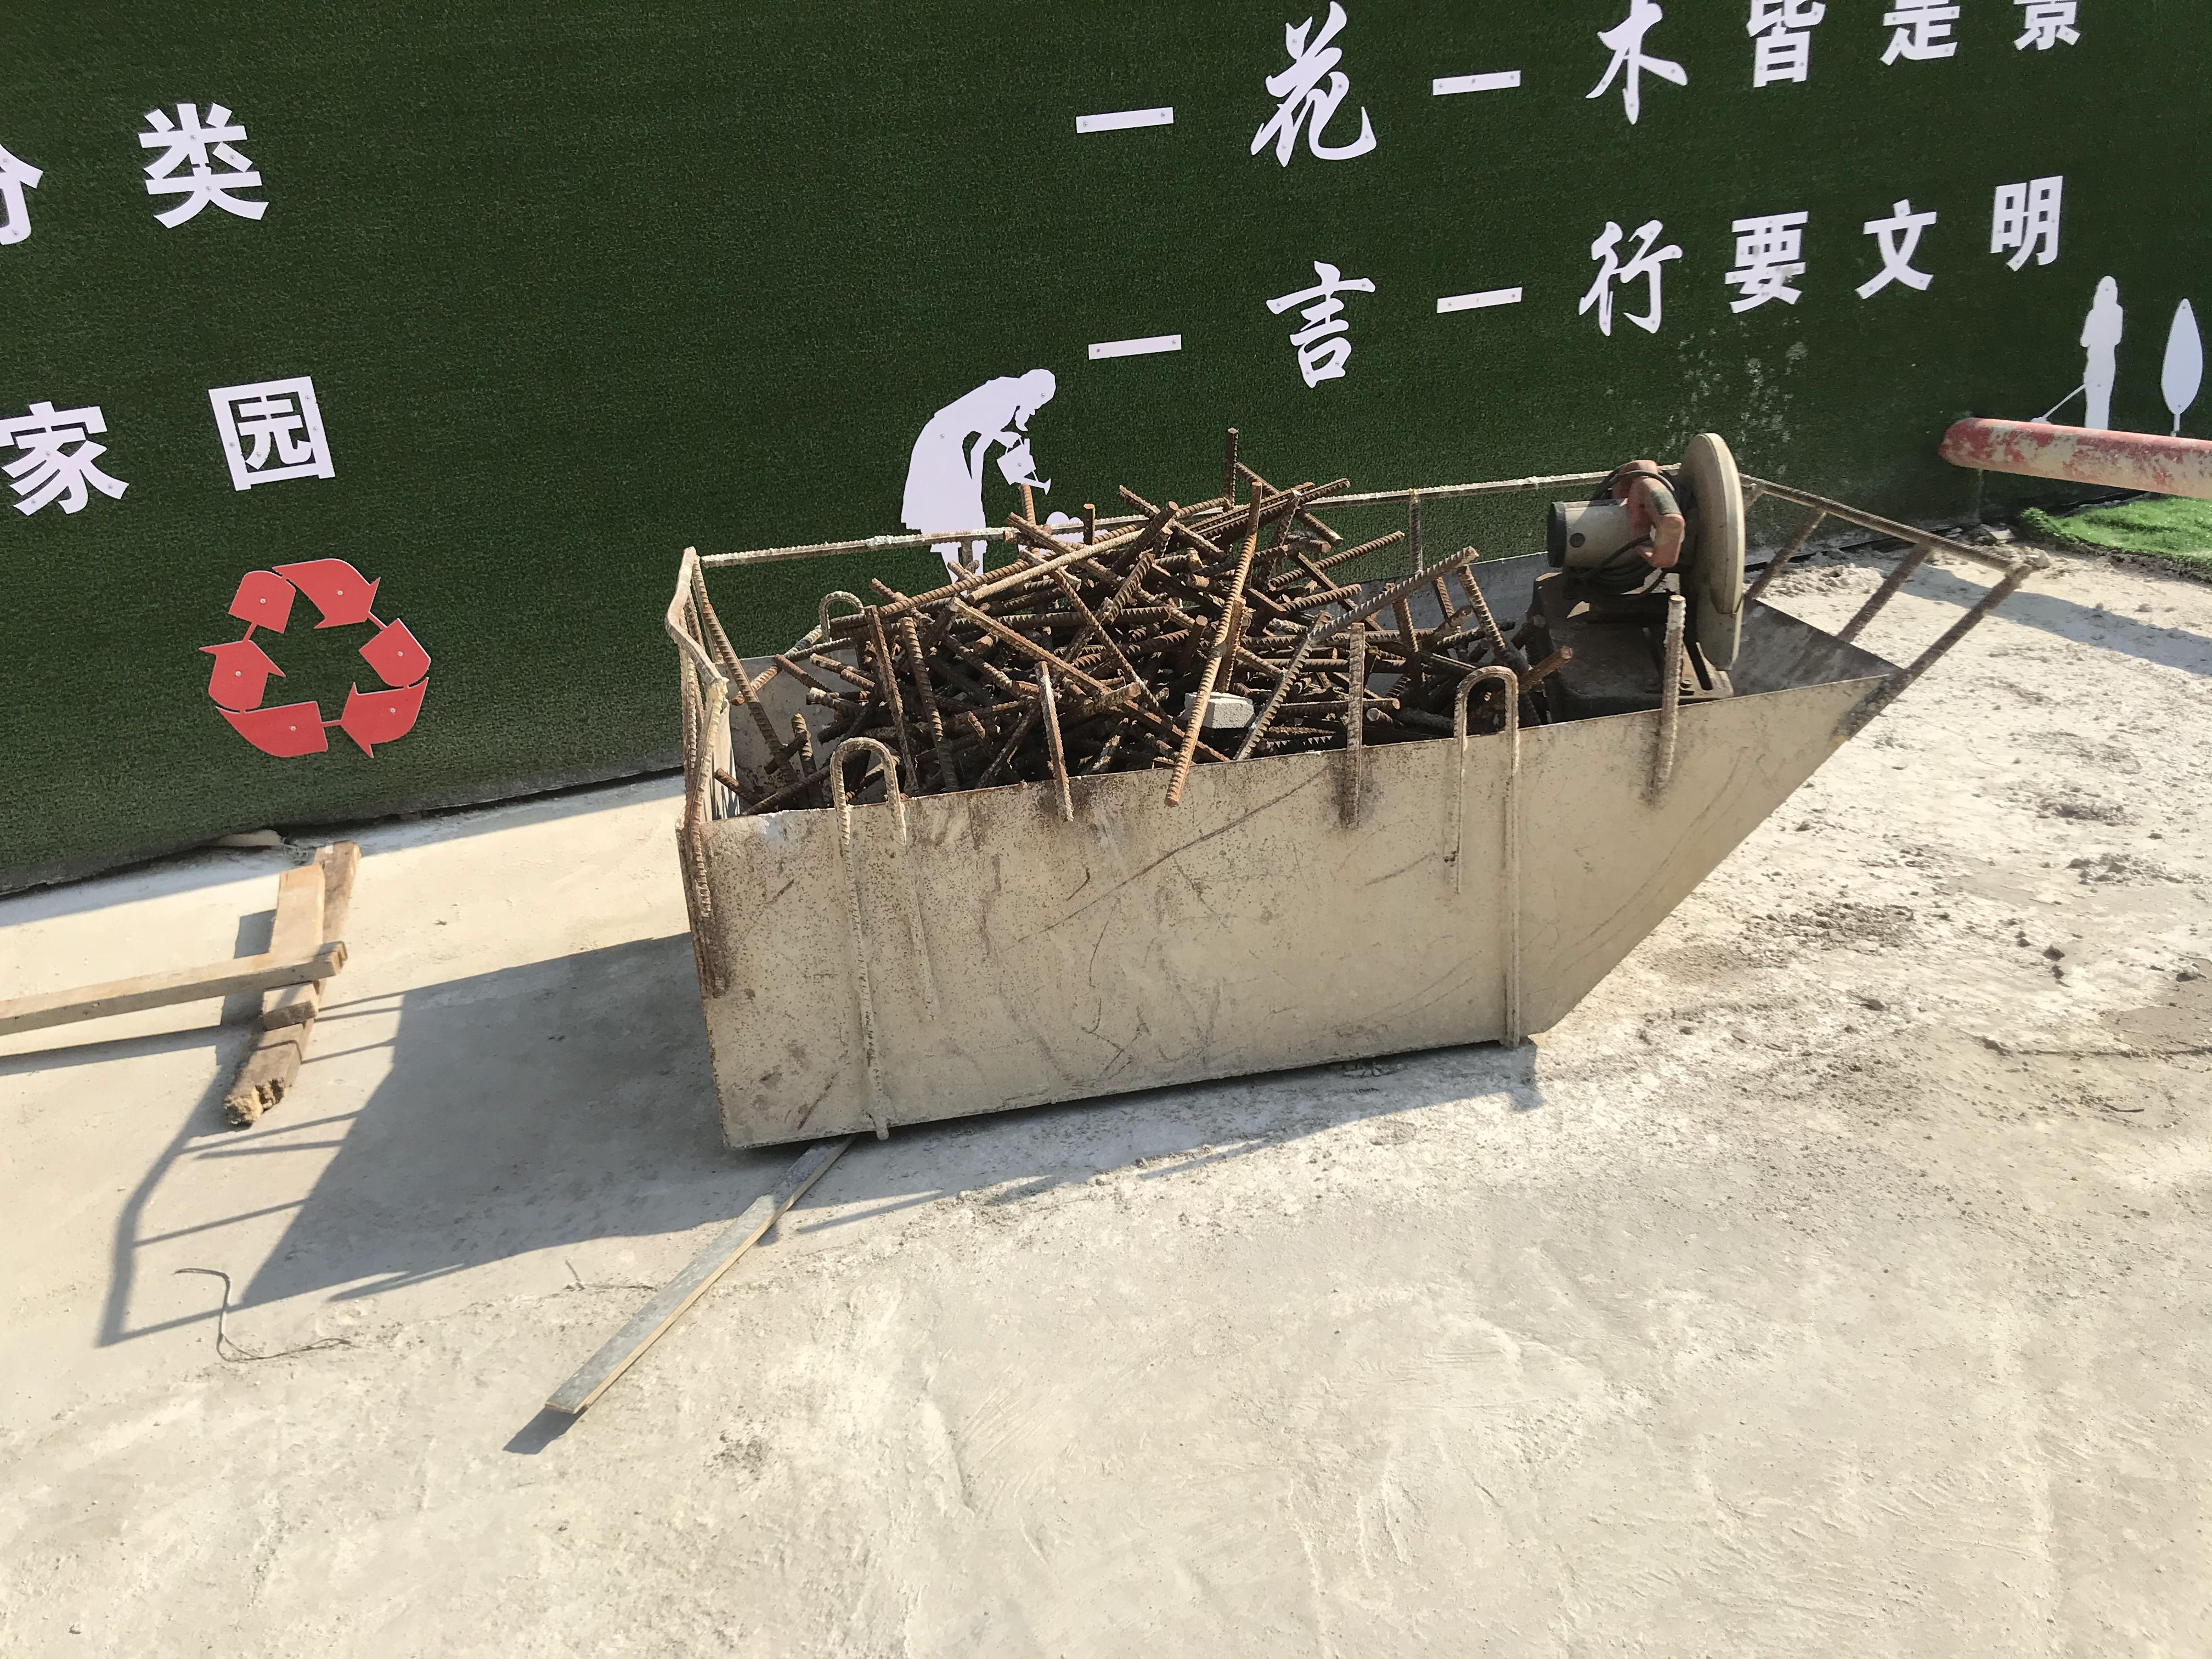hopper: (655, 429, 2050, 1148)
rebar: (752, 427, 1561, 810)
